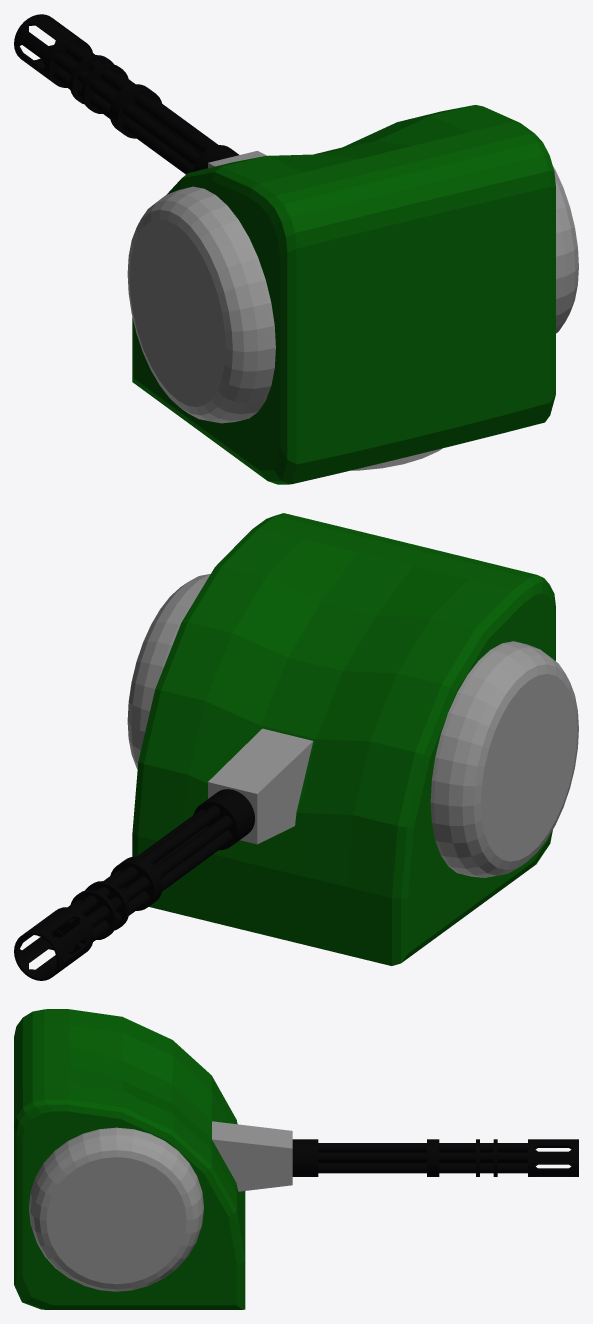
File: AAW Model.fbx
The picture shows the model from 3 angles, top to bottom: view 1: azimuth 30°, elevation 25°; view 2: azimuth 150°, elevation 25°; view 3: azimuth 270°, elevation 25°; orthographic projection. The views are drawn at different scales.
Parts seen in each view (by area): view 1: Body, VerticalPlatform, Barels; view 2: Body, VerticalPlatform, Barels; view 3: Body, VerticalPlatform, Barels.
Part boxes in pixels (left/top/right/bottom): Body: left=132, top=105, right=555, bottom=484; VerticalPlatform: left=127, top=151, right=578, bottom=423; Barels: left=14, top=14, right=238, bottom=174; Body: left=132, top=513, right=555, bottom=965; VerticalPlatform: left=127, top=574, right=578, bottom=877; Barels: left=14, top=789, right=254, bottom=980; Body: left=14, top=1009, right=245, bottom=1309; VerticalPlatform: left=29, top=1121, right=292, bottom=1291; Barels: left=292, top=1139, right=578, bottom=1176.
Bounding box in the file's own units: 2.56 × 4.88 × 2.08.
